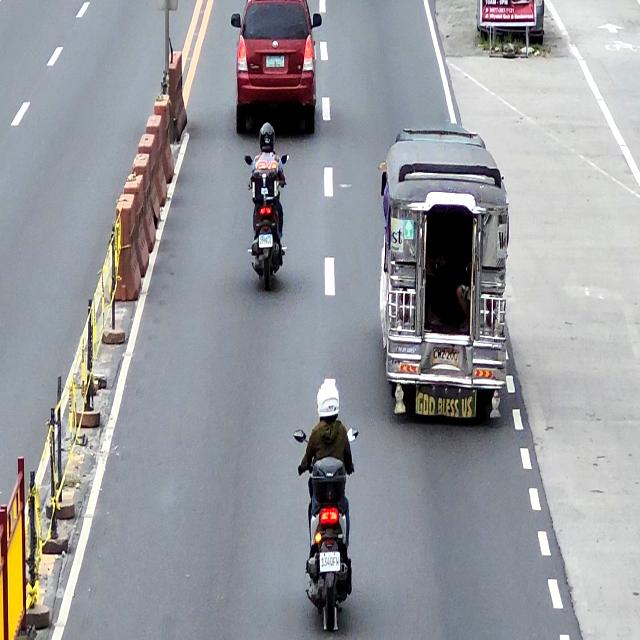Car: (231, 0, 322, 134)
Jeep: (380, 125, 509, 422)
License-Plate: (432, 346, 459, 366), (319, 550, 340, 574), (266, 54, 285, 69), (258, 233, 273, 249)
Motorcycle: (292, 426, 358, 630), (244, 152, 290, 288)
